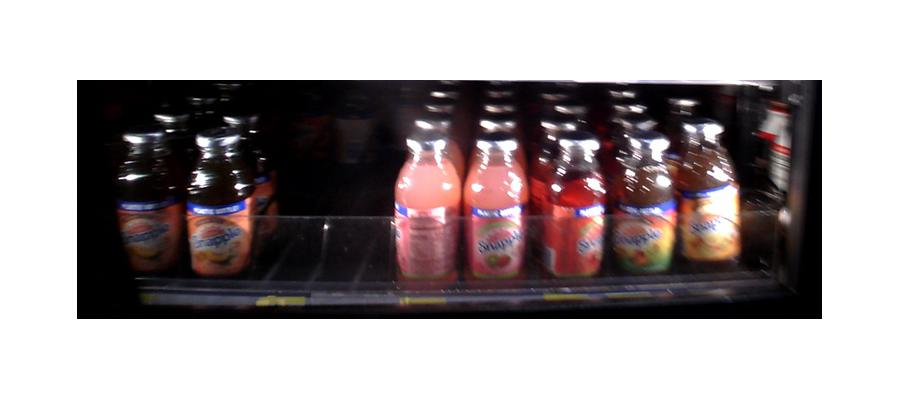bottle: (538, 125, 608, 281), (394, 134, 458, 292), (116, 127, 184, 275), (186, 129, 252, 281), (611, 122, 673, 278), (677, 116, 737, 273), (464, 129, 525, 281), (741, 88, 793, 264)
